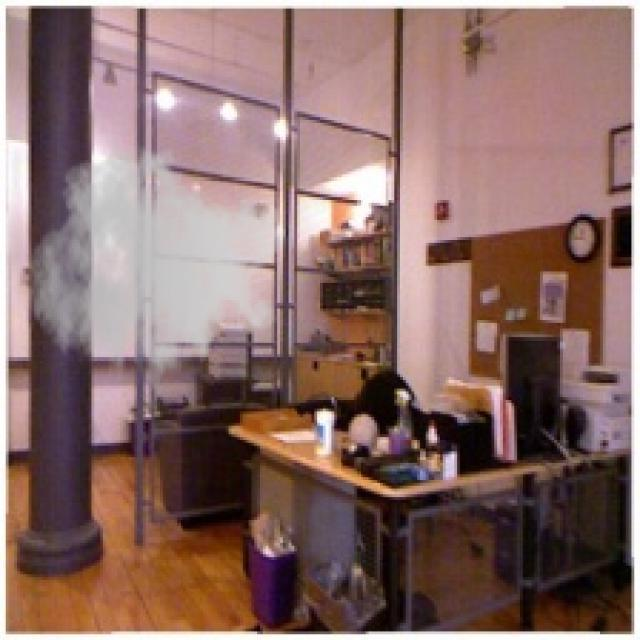Smoke: (26, 137, 286, 406)
